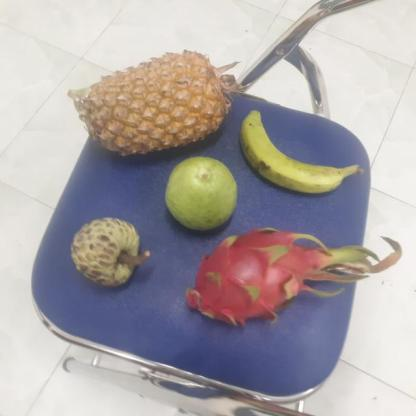annona: (67, 219, 142, 287)
banana: (234, 112, 343, 198)
guava: (160, 156, 238, 230)
pineapple: (80, 53, 226, 159)
pitaya: (180, 229, 325, 322)
